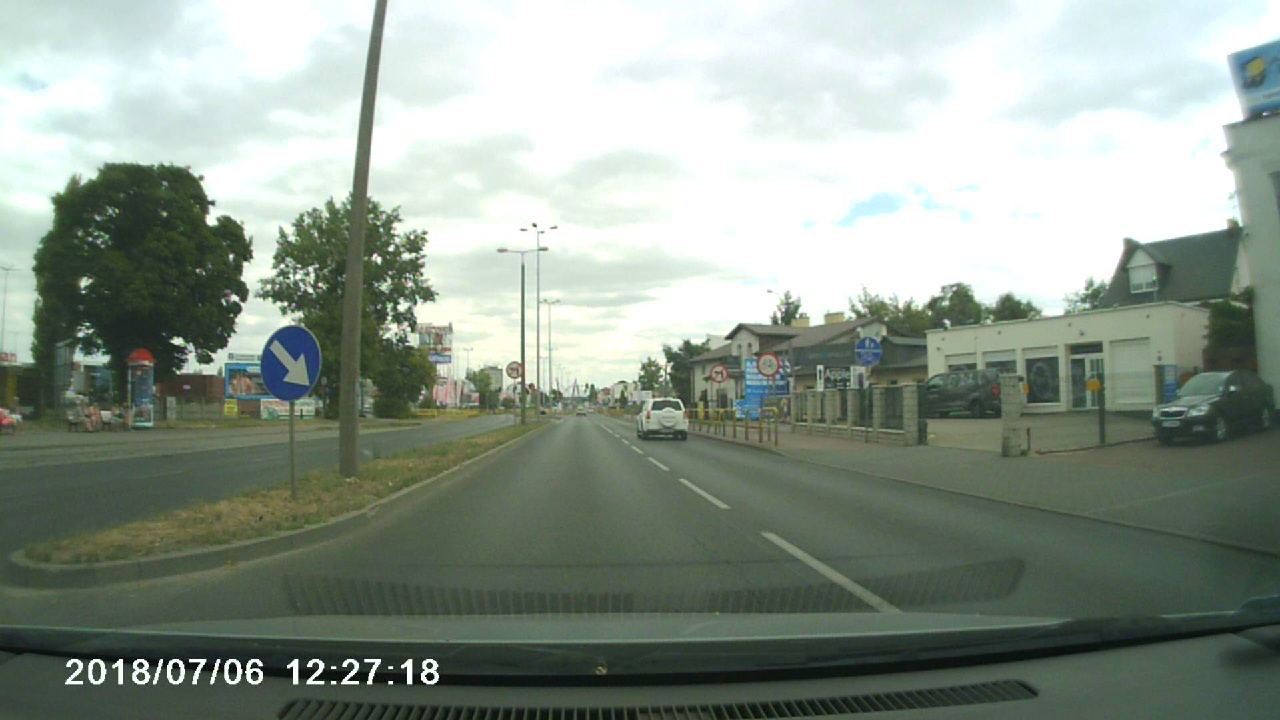C9: (260, 326, 320, 402)
